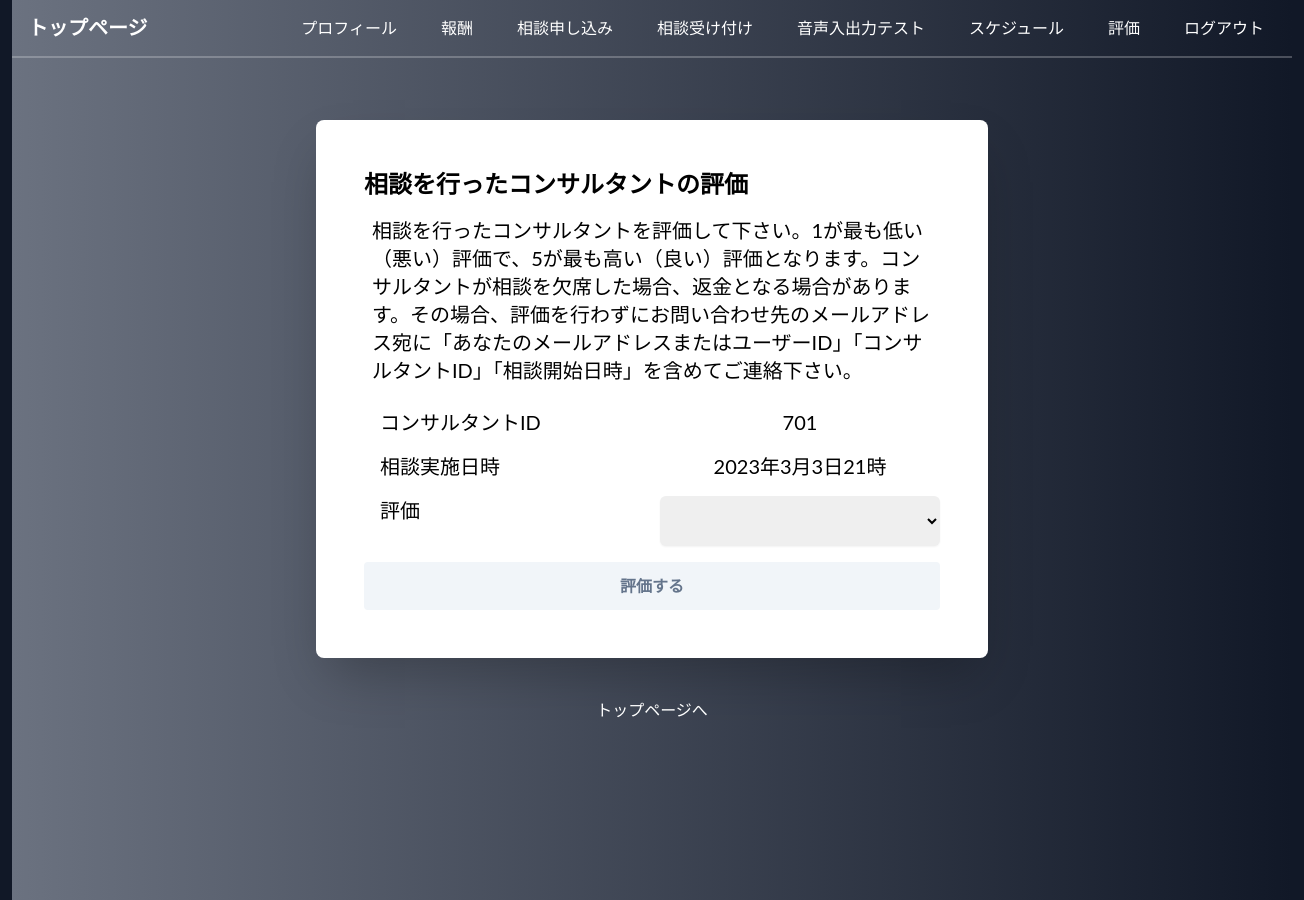
Test case: RateConsultantPage.vue › displays AlertMessage when error has happened
This screenshot has width=1304, height=900.
Select "3" in the dropdown at (800, 521), box [660,496,940,546]
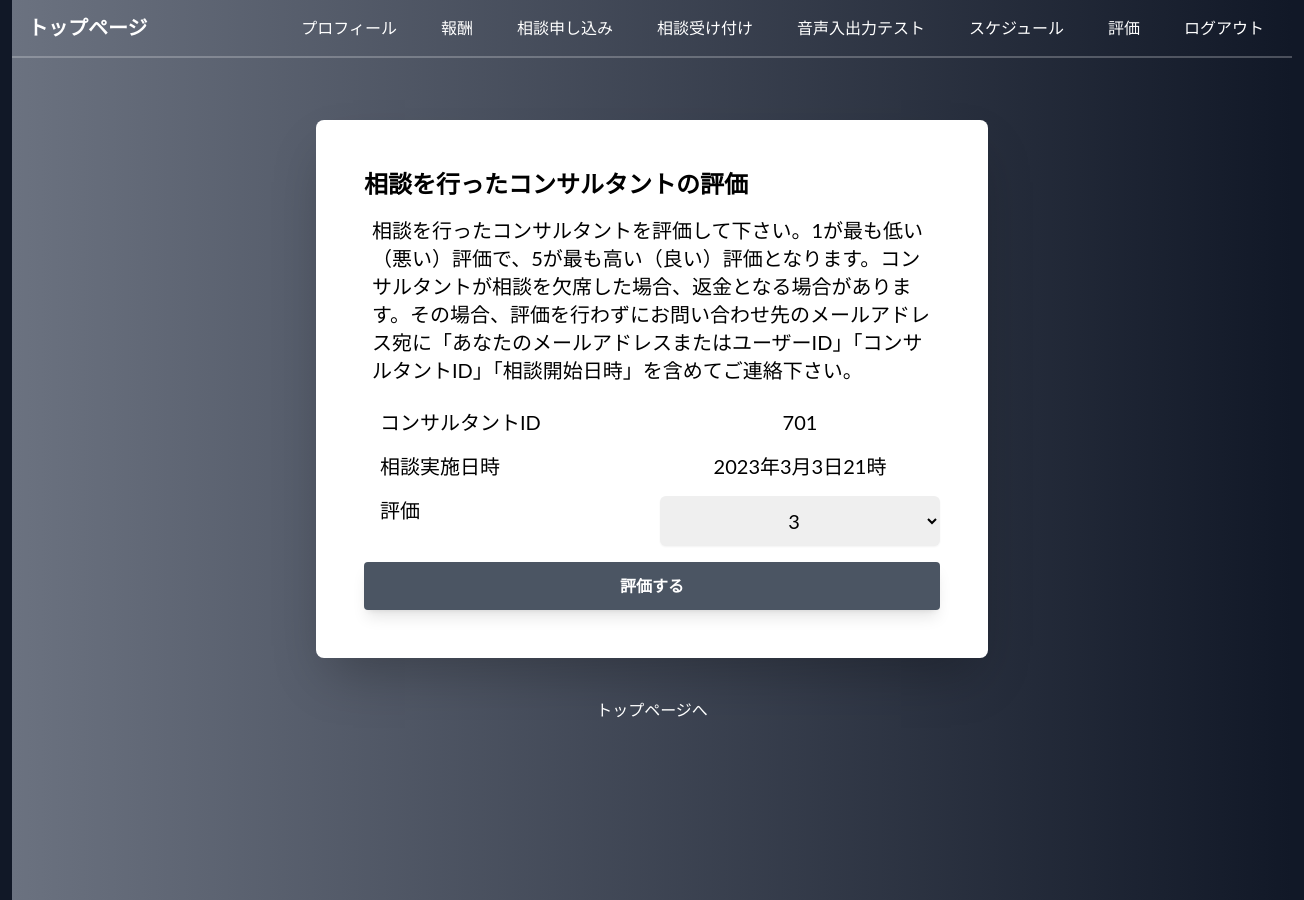
Click the button with test id "submit-button".
click(652, 586)  # box [364,562,940,610]
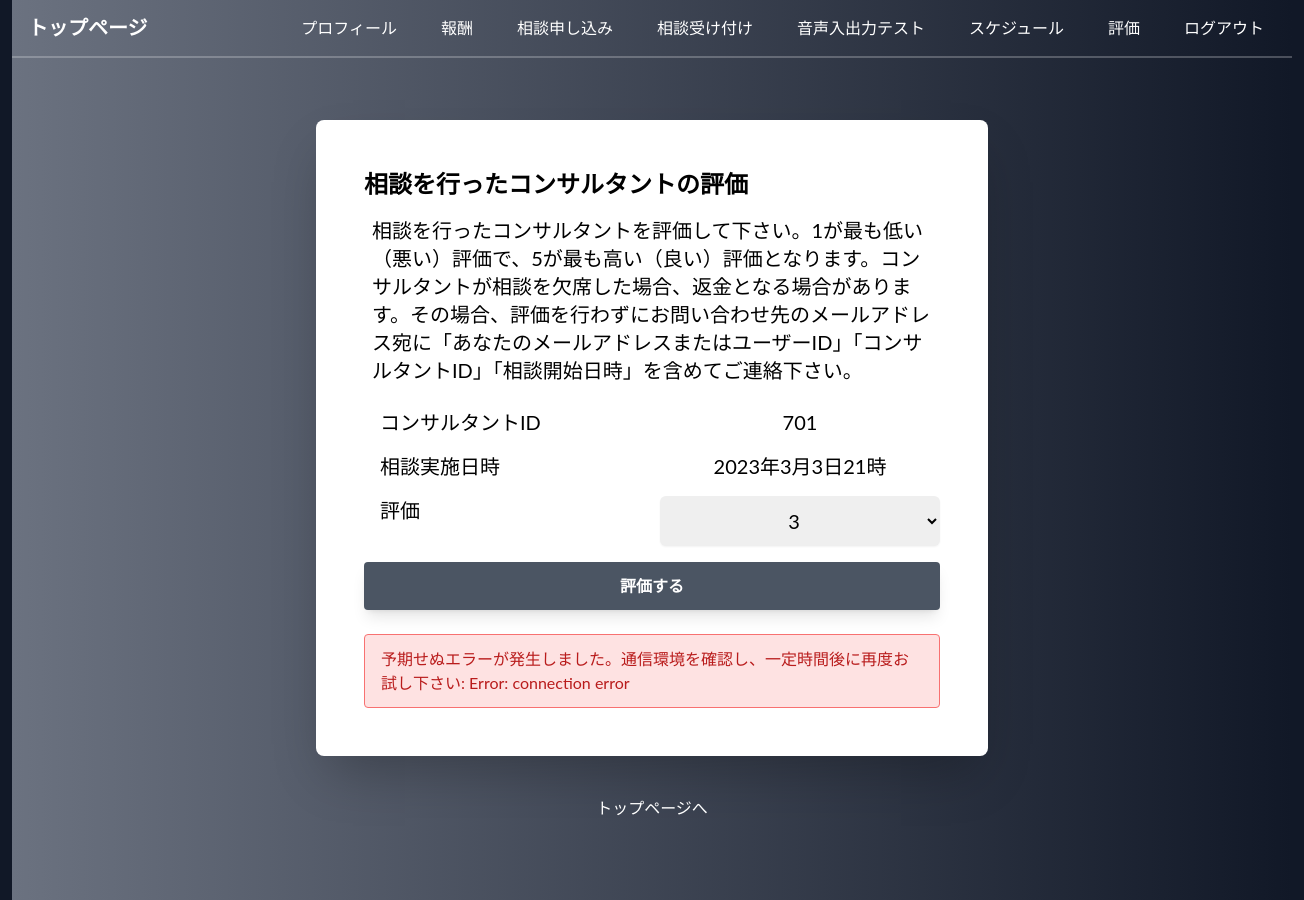
Expected: the number of "AlertMessage" components is 1, [364,634,940,708]
Expected: the message "予期せぬエラーが発生しました。通信環境を確認し、一定時間後に再度お試し下さい: Error: connection error" is shown, [364,634,940,708]
